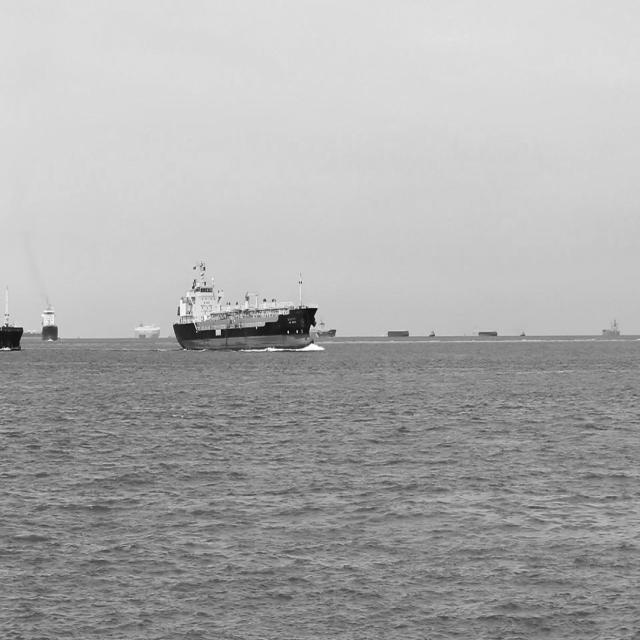ship: (171, 255, 320, 353), (0, 280, 25, 352), (306, 314, 336, 342), (42, 300, 59, 341), (133, 322, 160, 341), (601, 316, 622, 340), (24, 327, 42, 340)
